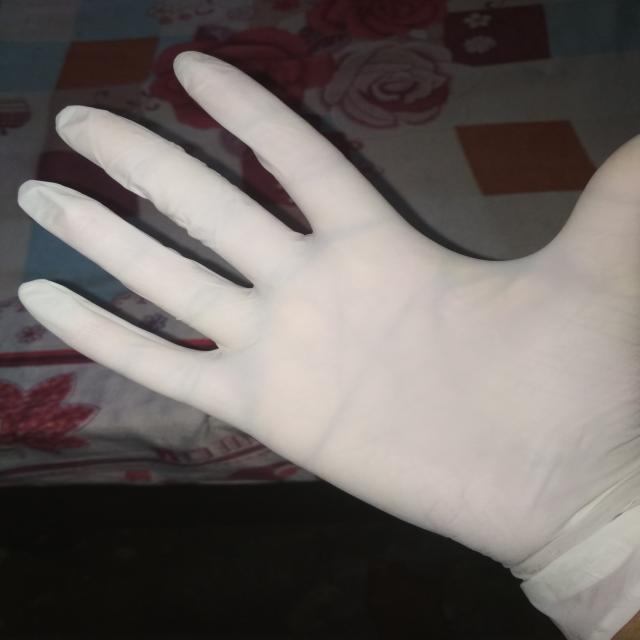glove: (12, 46, 636, 636)
